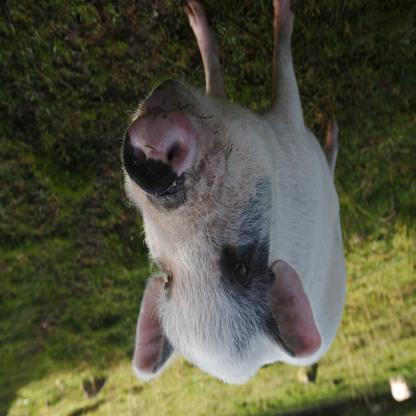boar: (119, 0, 346, 387), (388, 375, 413, 401)
